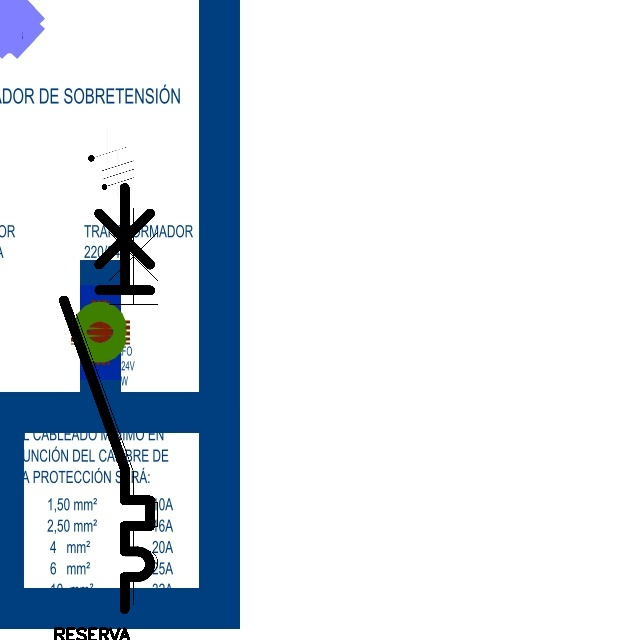interruptor_termomagnetico: (53, 177, 161, 620), (66, 198, 168, 615)
